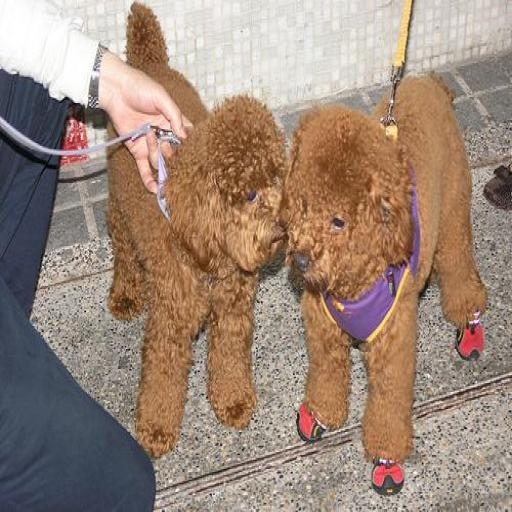dog_face: (288, 115, 413, 296), (174, 94, 281, 272)
